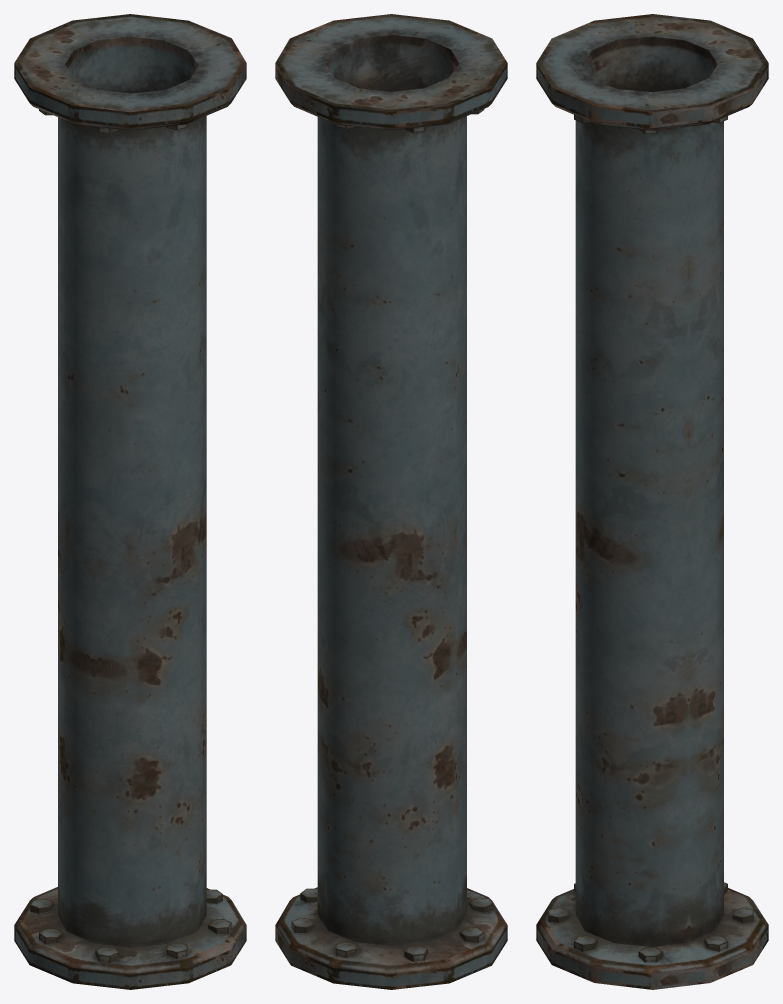
File: modular_industrial_pipes_01_pipe01.glb
3 renders of one model, left to right at view 1: azimuth 30°, elevation 25°; view 2: azimuth 150°, elevation 25°; view 3: azimuth 270°, elevation 25°, orthographic.
Visible parts, largest first — view 1: modular_industrial_pipes_01_pipe01; view 2: modular_industrial_pipes_01_pipe01; view 3: modular_industrial_pipes_01_pipe01.
Boxes of the visible parts, x1,y1,x2,y2 form: modular_industrial_pipes_01_pipe01: (14, 14, 246, 989); modular_industrial_pipes_01_pipe01: (275, 14, 507, 989); modular_industrial_pipes_01_pipe01: (536, 14, 768, 989).
Size of the model in its own units: 0.2071 by 0.8591 by 0.2063.
Materials: 1 (1 with a texture image).
